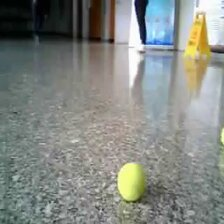tennis: (117, 163, 147, 201)
